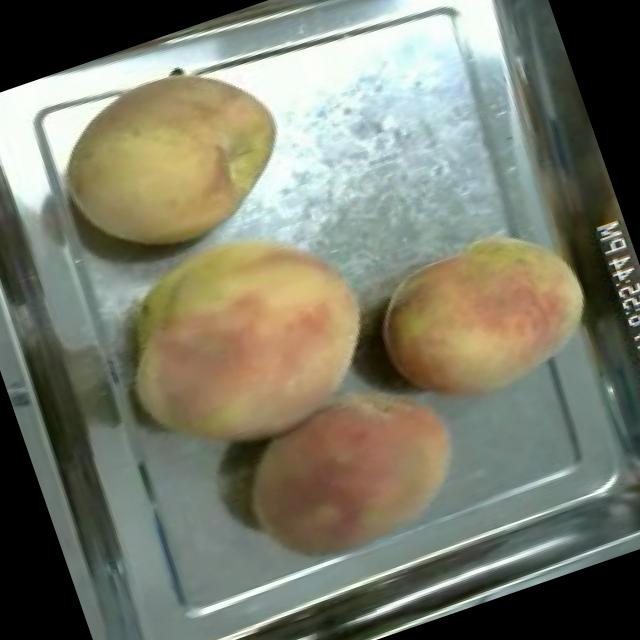Fruit: (82, 188, 398, 487), (30, 34, 313, 285), (212, 350, 487, 591), (354, 202, 614, 430)
